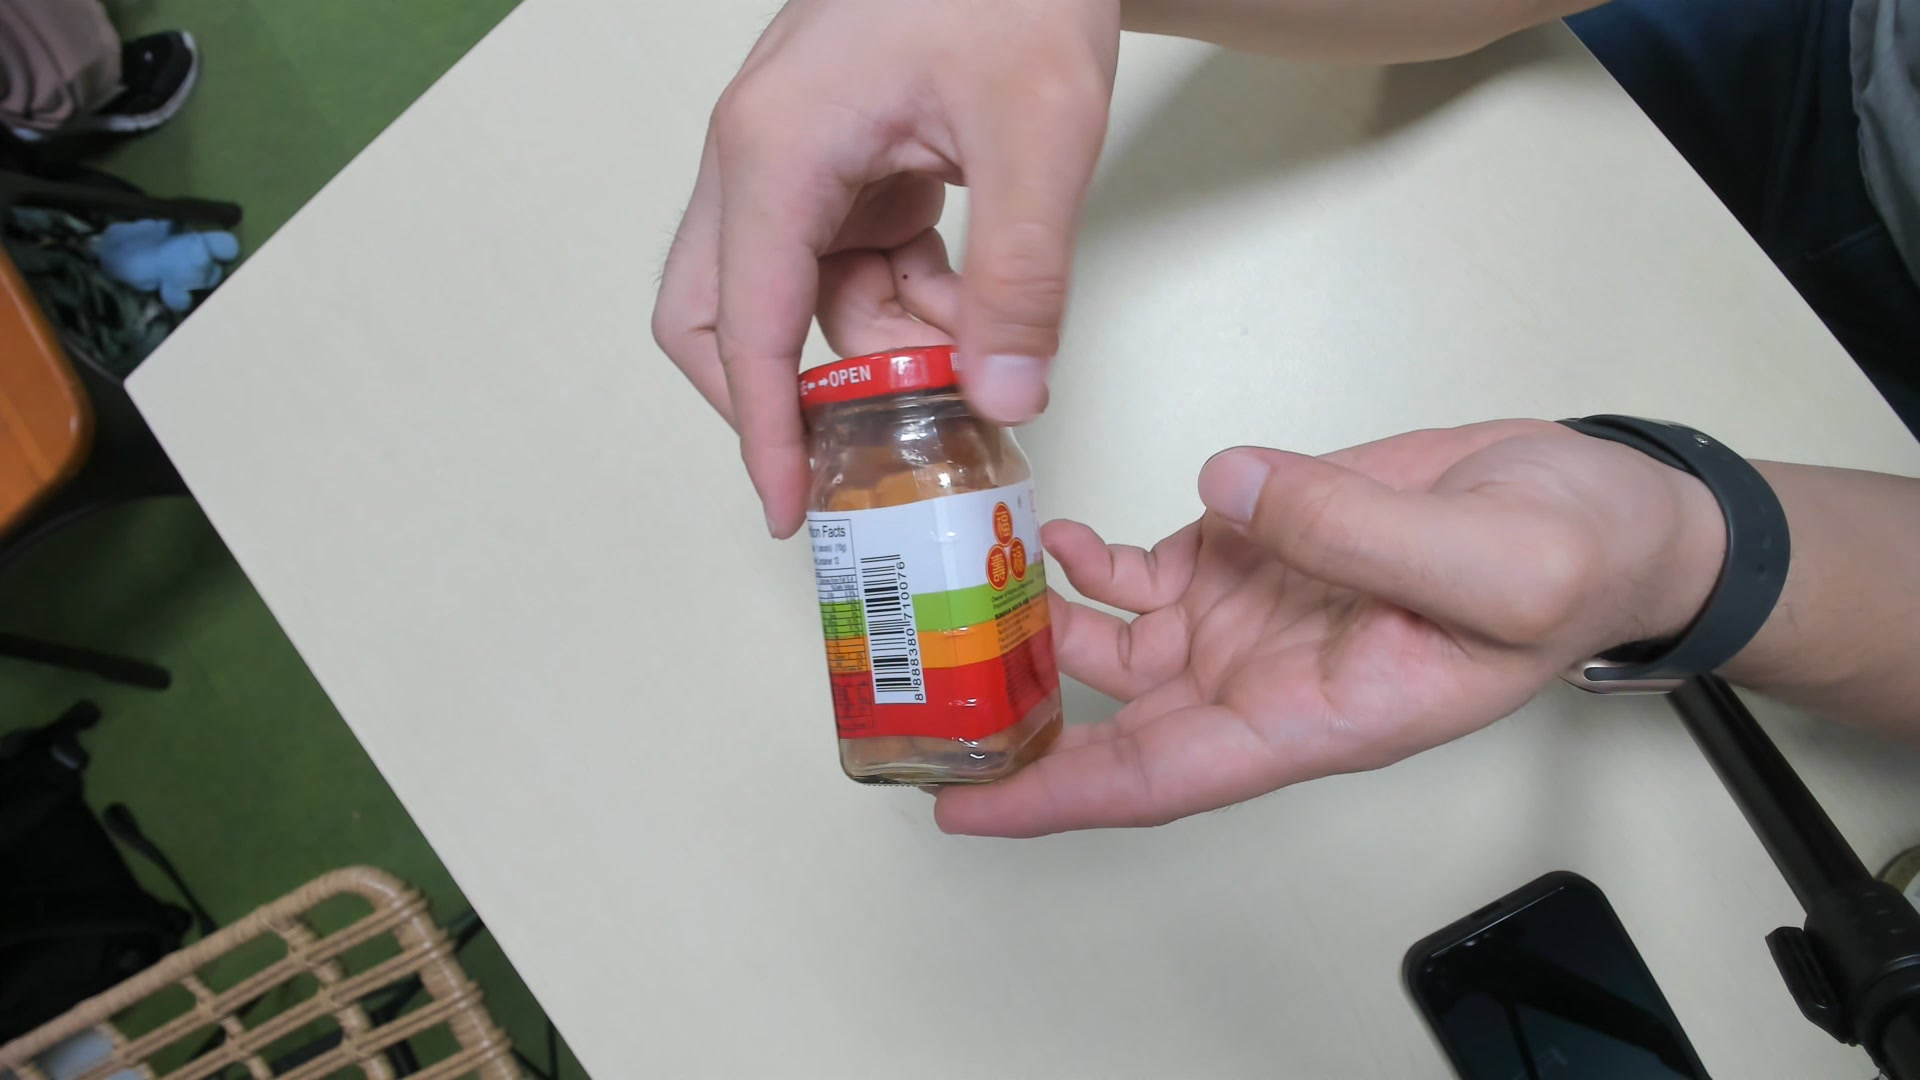OtherSauceDressing_100-199g_NonHalal_NonHealthy: (793, 334, 1065, 789)
